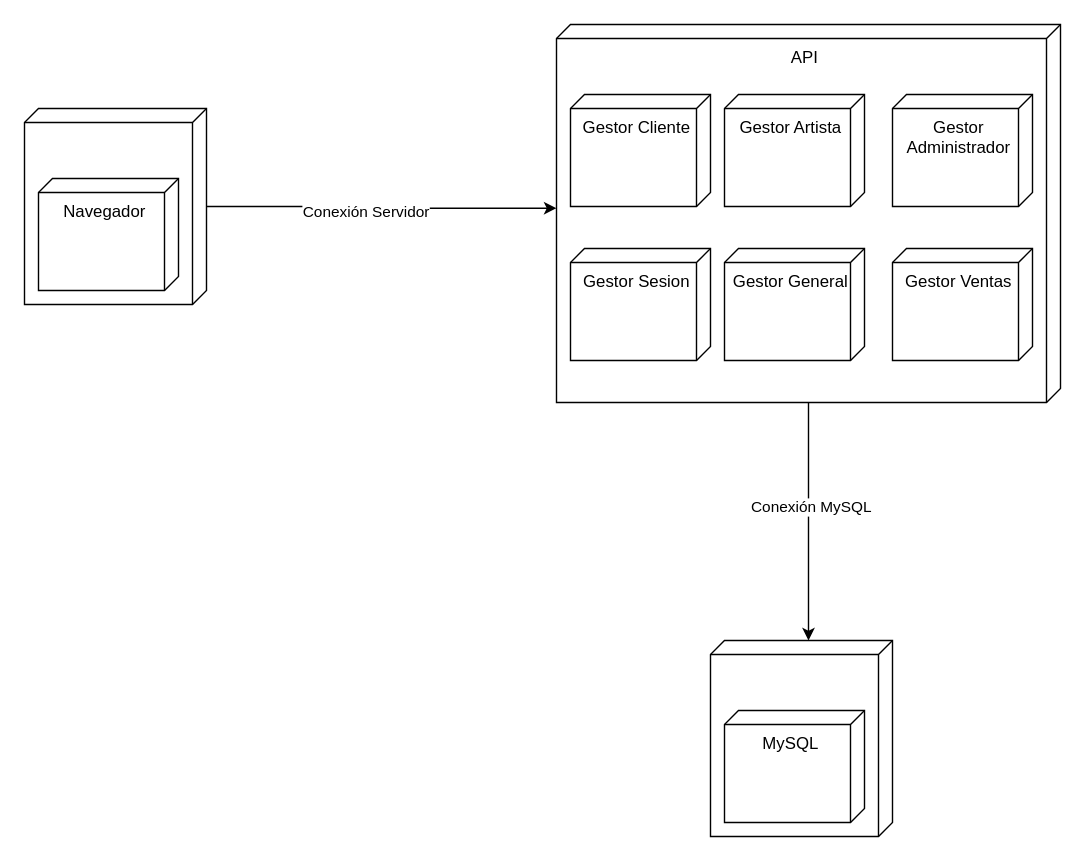
Some shapes in this 1085 by 861 pixel diagram are drawn without their labels. The centre of each missing label's shape, as x and y in pixels:
Base de Datos: point 800,737
Cliente: point 114,205
